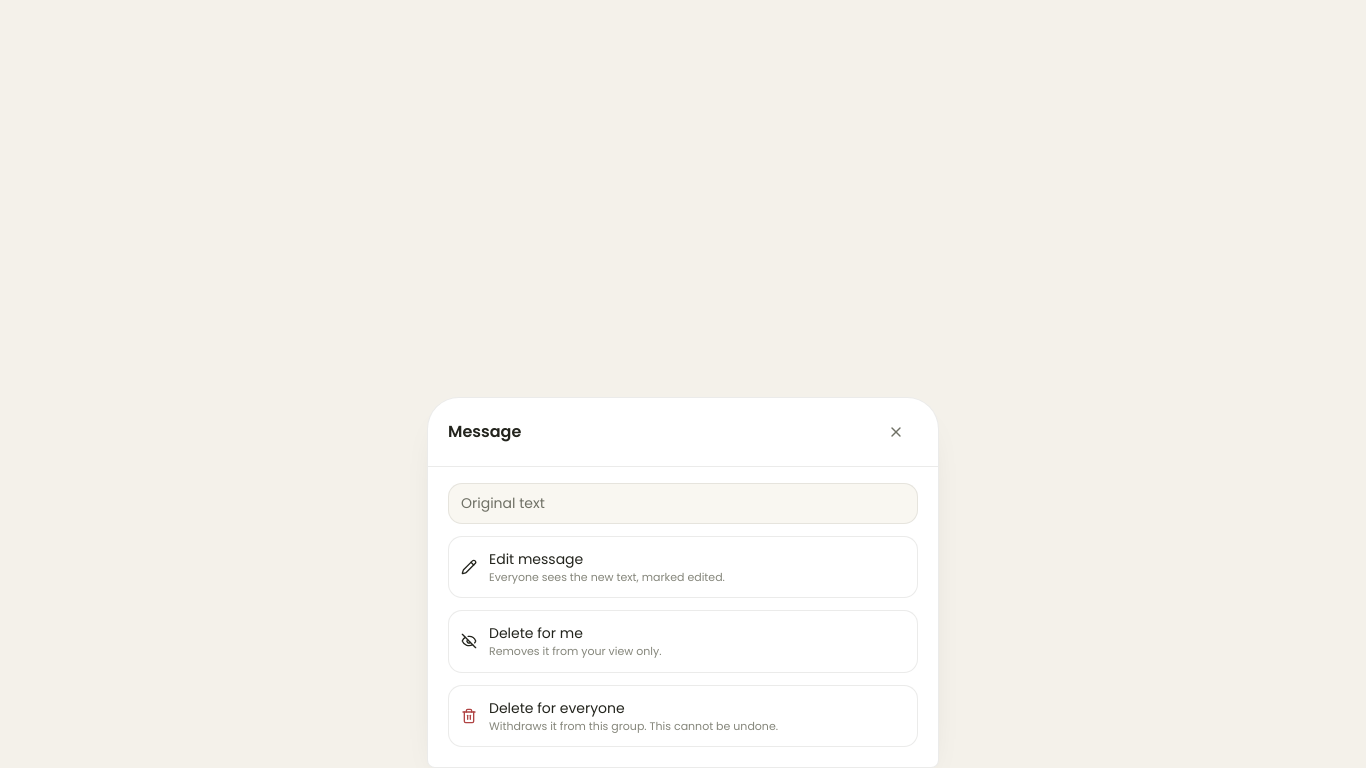
MessageActionsSheet › keeps the edit disabled until the text changes
The image size is (1366, 768).
Click the button "Edit message Everyone sees the new text, marked edited.".
click(683, 567)  # box 448,536 -> 918,598
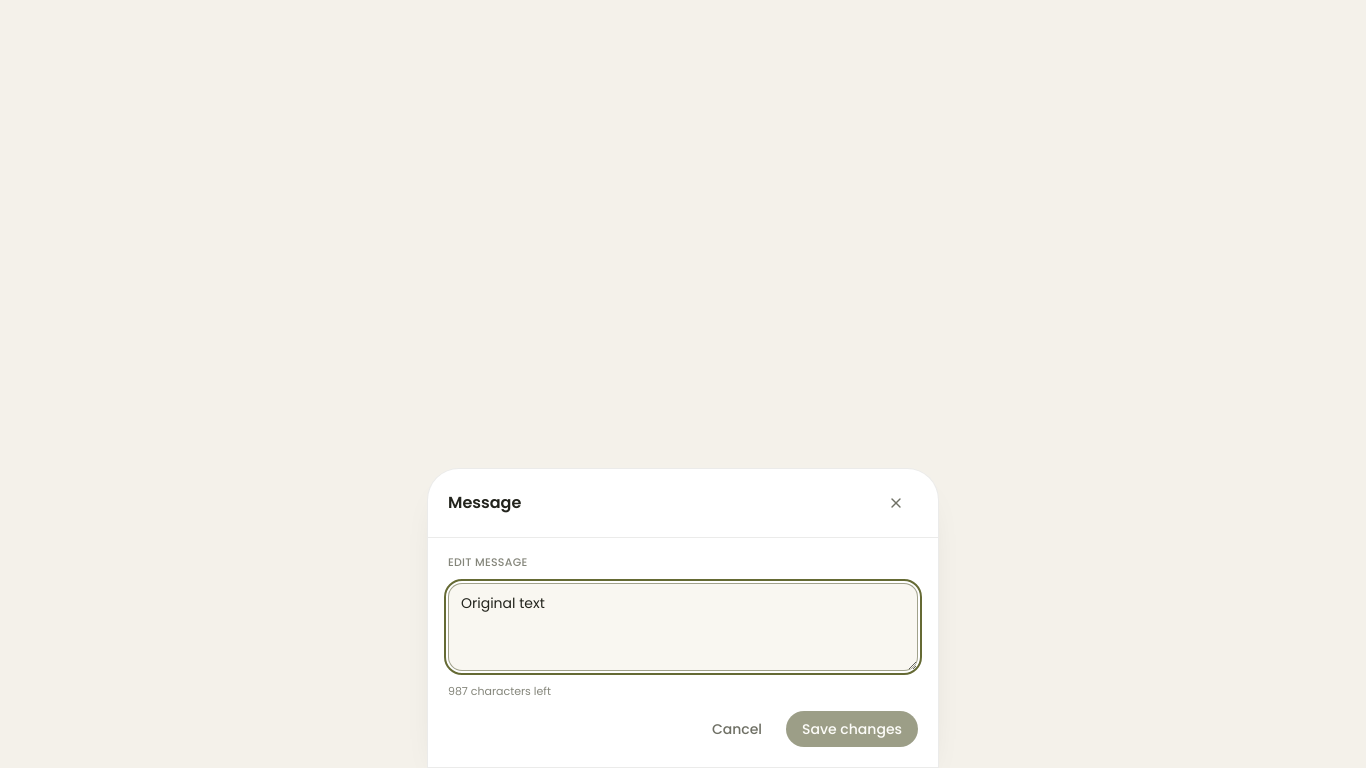
Now the button "Save changes" is disabled, box 786,711 -> 918,747
